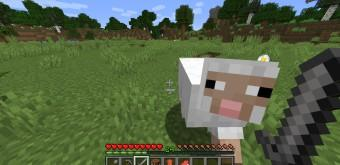sheep: (178, 57, 281, 145)
